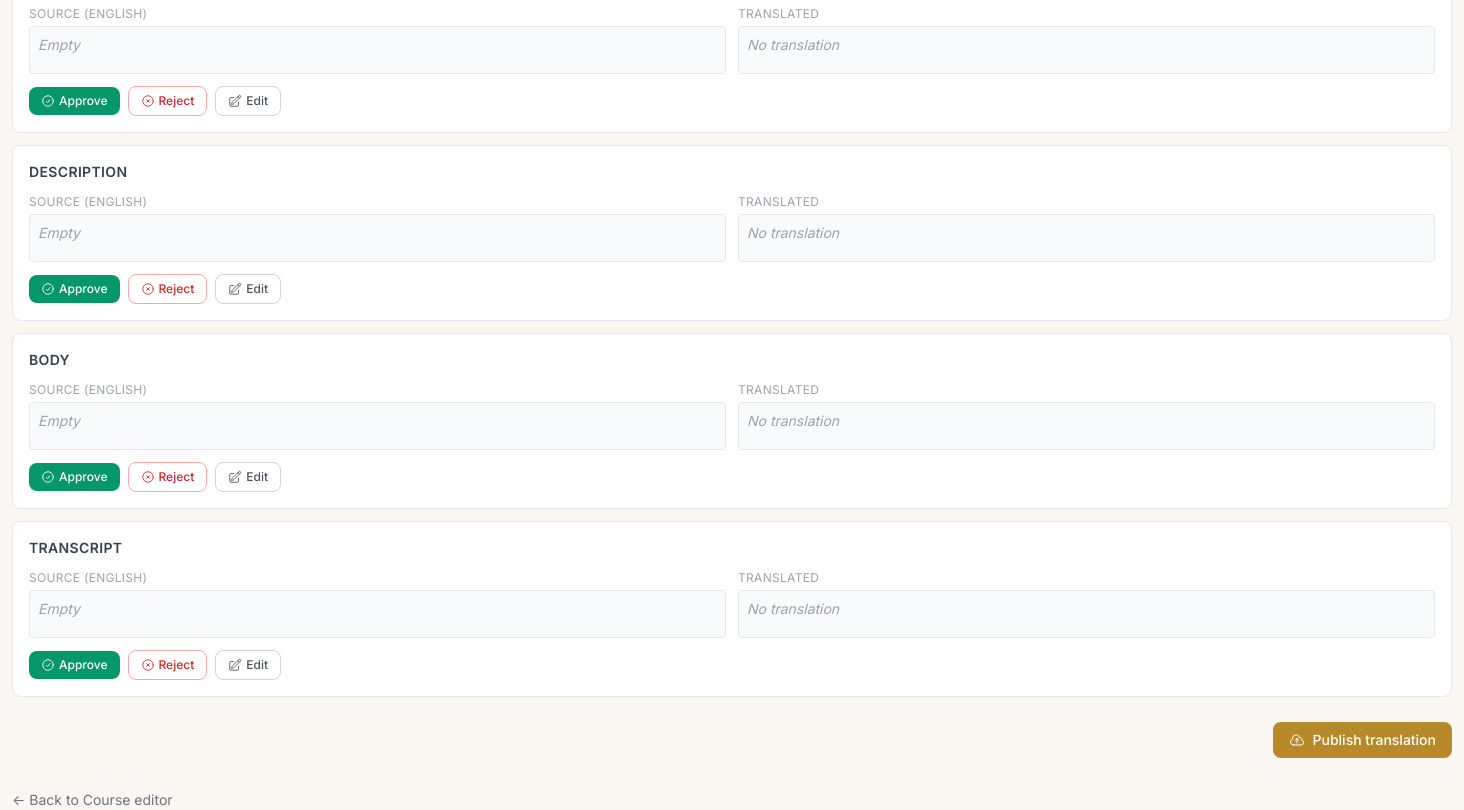
Test: TASK-064b — publishTranslation happy path › shows publish result banner with rows_published count
(page scrolled)
Click the button with test id "publish-translation-btn" at (1362, 740), box [1272,722,1452,758]
(page scrolled)
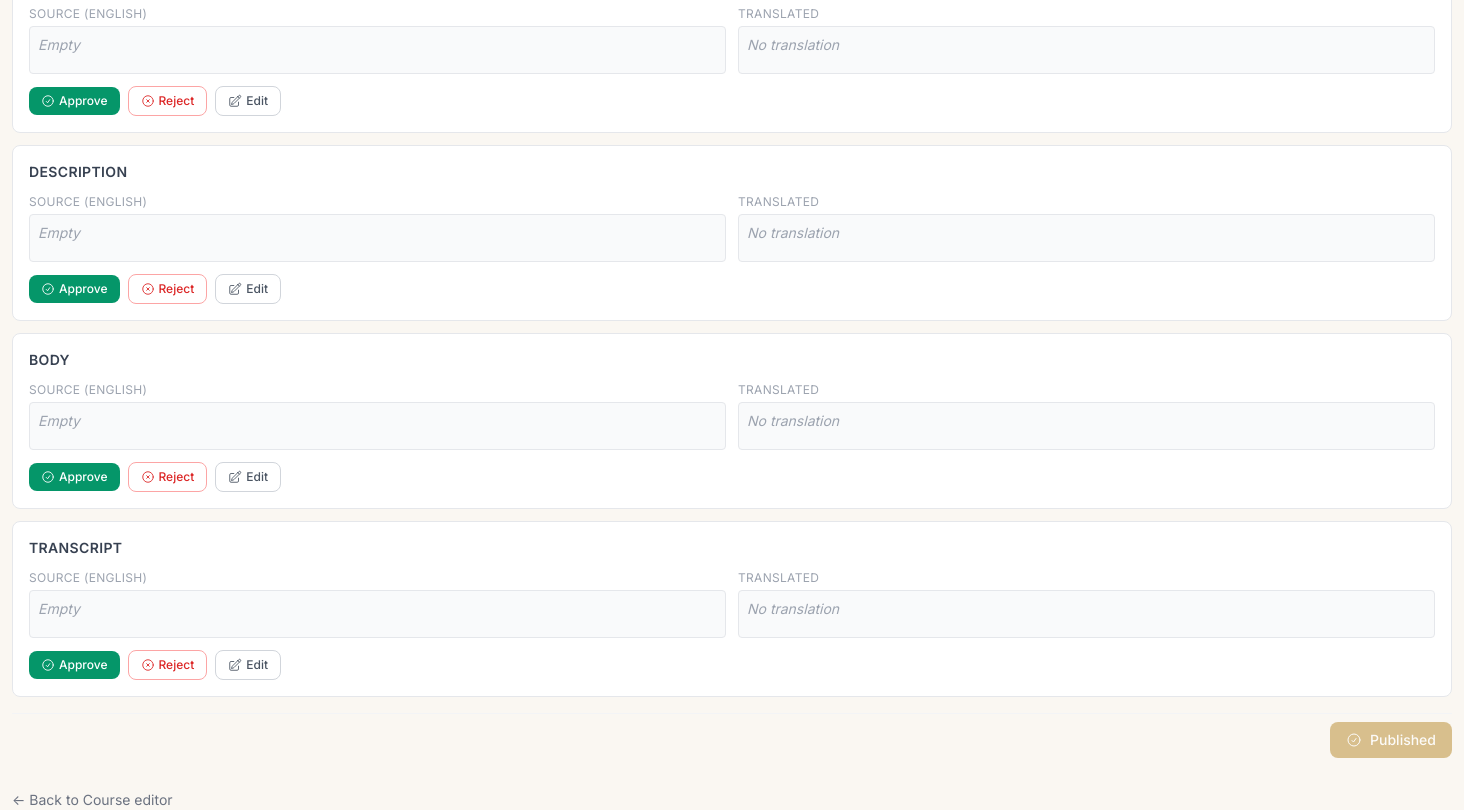
Expected: the button with test id "publish-translation-btn" reads "Published", [1330,722,1452,758]
Expected: the button with test id "publish-translation-btn" is disabled, [1330,722,1452,758]
